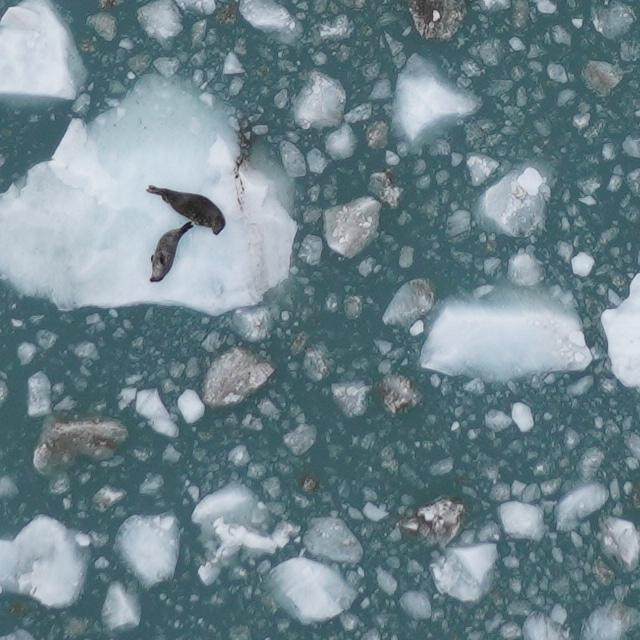seal: (142, 182, 229, 240), (146, 219, 197, 289)
